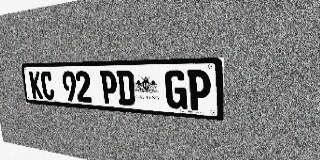2: (75, 71, 92, 103)
9: (61, 71, 78, 102)
C: (40, 71, 55, 100)
D: (116, 70, 135, 106)
G: (165, 70, 187, 110)
K: (29, 71, 43, 99)
P: (187, 70, 211, 111), (100, 71, 118, 105)
